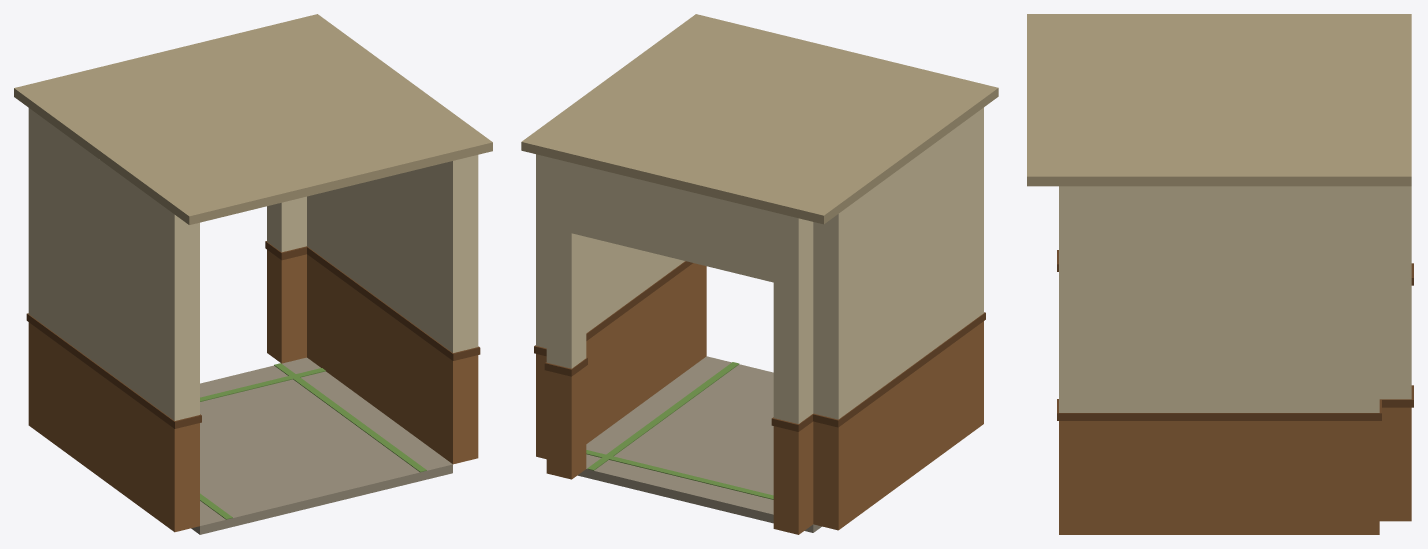
The model's file is room_shared_hall_end.glb.
3 renders of one model, left to right at view 1: azimuth 30°, elevation 25°; view 2: azimuth 150°, elevation 25°; view 3: azimuth 270°, elevation 25°, orthographic. The views are drawn at different scales.
Visible parts, largest first — view 1: room_shared_hall_end; view 2: room_shared_hall_end; view 3: room_shared_hall_end.
Part boxes in pixels (x1,y1,x2,y2): room_shared_hall_end: (14,14,492,534); room_shared_hall_end: (521,14,998,534); room_shared_hall_end: (1027,14,1413,534).
Size of the model in its own units: 3.62 by 3.8 by 3.62.
Materials: 1 (1 with a texture image).
